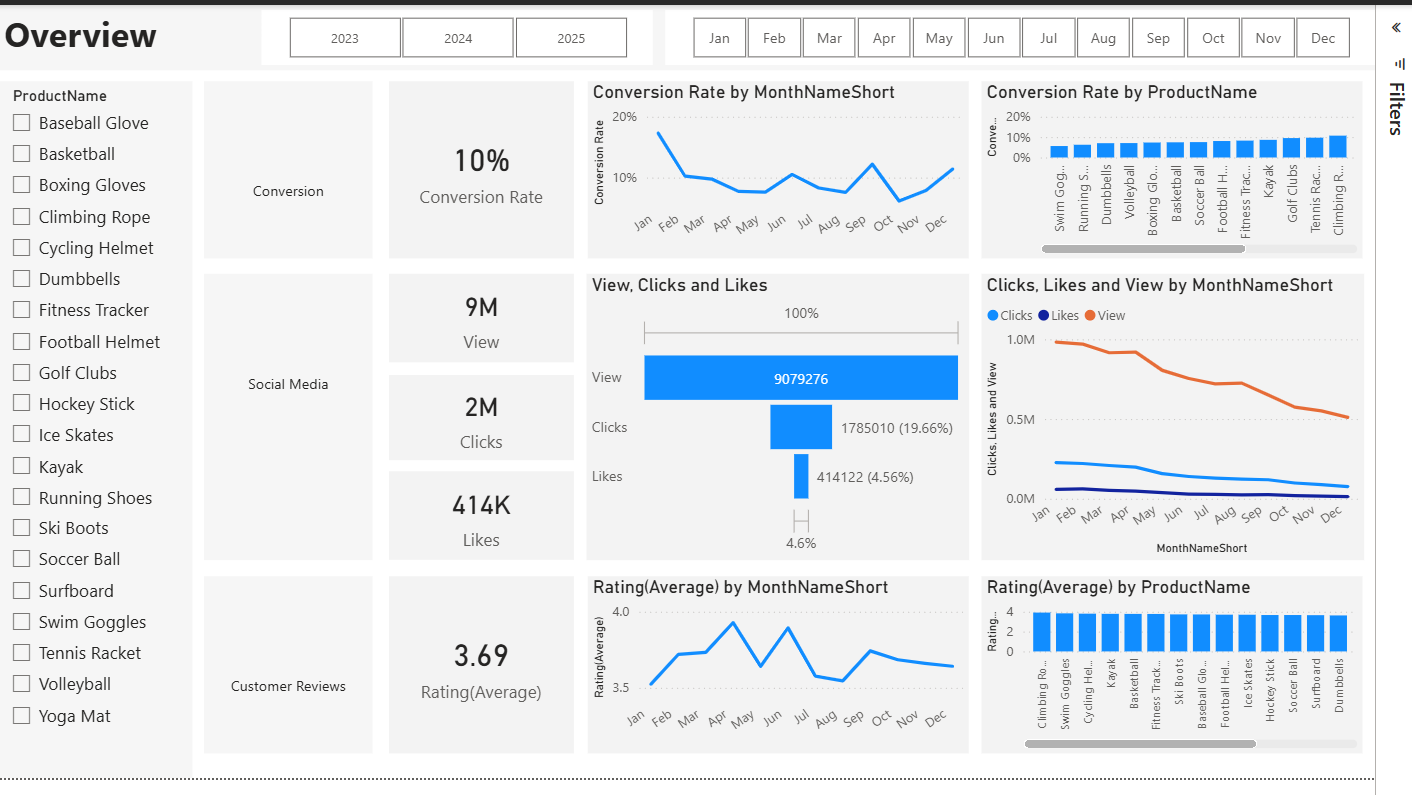

The dashboard page shown, as its layout file describes it:
{"tool":"powerbi","page":{"name":"Overview","canvas":[1280,720],"ordinal":0},"visuals":[{"type":"textbox","box":[0,0,1280.2,60.5],"z":0},{"type":"slicer","fields":{"Values":["dim_products.ProductName"]},"box":[0,70.9,180.2,648.8],"z":1000},{"type":"textbox","box":[190.7,70.9,157,165.1],"z":2000},{"type":"textbox","box":[190.7,250,157,266.3],"z":3000},{"type":"textbox","box":[190.7,531.4,157,165.1],"z":4000},{"type":"card","fields":{"Values":["Calculator.Conversion Rate"]},"box":[362.8,70.9,172.1,165.1],"z":5000},{"type":"card","fields":{"Values":["Calculator.View"]},"box":[362.8,250,172.1,82.6],"z":6000},{"type":"card","fields":{"Values":["Calculator.Likes"]},"box":[362.8,433.7,172.1,82.6],"z":7000},{"type":"card","fields":{"Values":["Calculator.Clicks"]},"box":[362.8,344.2,172.1,79.1],"z":8000},{"type":"card","fields":{"Values":["Calculator.Rating(Average)"]},"box":[362.8,531.4,172.1,165.1],"z":9000},{"type":"slicer","fields":{"Values":["Calendar.Year"]},"box":[244.2,4.7,364,51.2],"z":10000},{"type":"slicer","fields":{"Values":["Calendar.MonthNameShort"]},"box":[619.8,4.7,660.5,51.2],"z":11000},{"type":"lineChart","fields":{"Y":["Calculator.Conversion Rate"],"Category":["Calendar.MonthNameShort"]},"box":[547.7,70.9,354.7,165.1],"z":12000},{"type":"columnChart","fields":{"Y":["Calculator.Conversion Rate"],"Category":["dim_products.ProductName"]},"box":[914,70.9,354.7,165.1],"z":13000},{"type":"lineChart","fields":{"Category":["Calendar.MonthNameShort"],"Y":["Calculator.Clicks","Calculator.Likes","Calculator.View"]},"box":[914,250,355.8,266.3],"z":14000},{"type":"funnel","fields":{"Y":["Calculator.View","Calculator.Clicks","Calculator.Likes"]},"box":[546.5,250,355.8,266.3],"z":15000},{"type":"lineChart","fields":{"Category":["Calendar.MonthNameShort"],"Y":["Calculator.Rating(Average)"]},"box":[547.7,531.4,354.7,165.1],"z":16000},{"type":"columnChart","fields":{"Category":["dim_products.ProductName"],"Y":["Calculator.Rating(Average)"]},"box":[914,531.4,354.7,165.1],"z":17000}]}

Visuals, with their boxes in screenshot pixels (x1, y1, x2, y2), scaled from the page's 1280x720 canvas onto the 1412x795 screenshot:
textbox: left=0, top=0, right=1411, bottom=67
slicer - dim_products.ProductName: left=0, top=78, right=199, bottom=794
textbox: left=210, top=78, right=384, bottom=261
textbox: left=210, top=276, right=384, bottom=570
textbox: left=210, top=587, right=384, bottom=769
card - Calculator.Conversion Rate: left=400, top=78, right=590, bottom=261
card - Calculator.View: left=400, top=276, right=590, bottom=367
card - Calculator.Likes: left=400, top=479, right=590, bottom=570
card - Calculator.Clicks: left=400, top=380, right=590, bottom=467
card - Calculator.Rating(Average): left=400, top=587, right=590, bottom=769
slicer - Calendar.Year: left=269, top=5, right=671, bottom=62
slicer - Calendar.MonthNameShort: left=684, top=5, right=1411, bottom=62
lineChart - Calculator.Conversion Rate x Calendar.MonthNameShort: left=604, top=78, right=995, bottom=261
columnChart - Calculator.Conversion Rate x dim_products.ProductName: left=1008, top=78, right=1400, bottom=261
lineChart - Calendar.MonthNameShort x Calculator.Clicks: left=1008, top=276, right=1401, bottom=570
funnel - Calculator.View x Calculator.Clicks: left=603, top=276, right=995, bottom=570
lineChart - Calendar.MonthNameShort x Calculator.Rating(Average): left=604, top=587, right=995, bottom=769
columnChart - dim_products.ProductName x Calculator.Rating(Average): left=1008, top=587, right=1400, bottom=769
